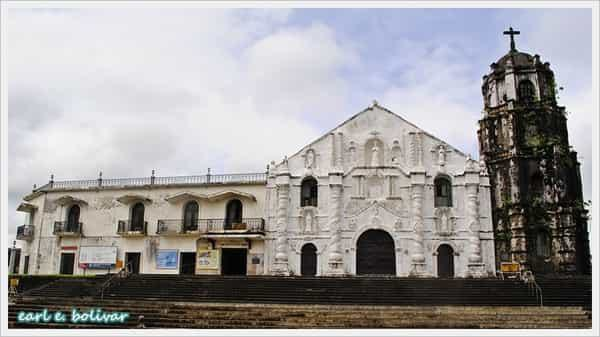daraga_church_daraga_albay: (267, 20, 593, 277)
